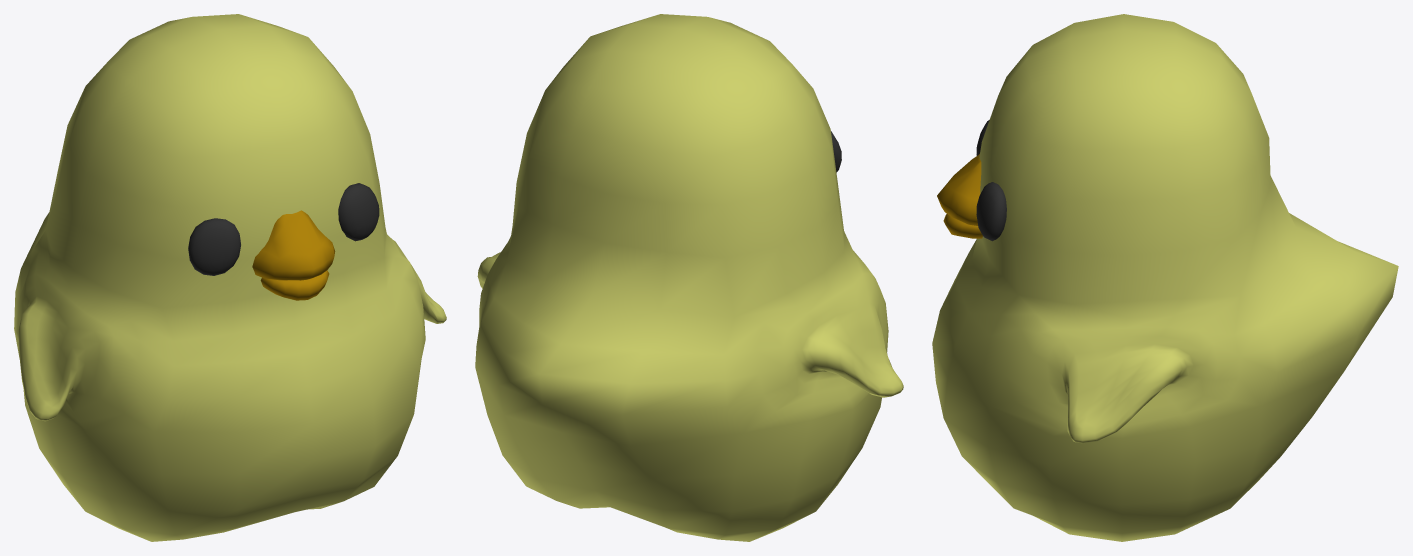
Rendered from duck (rubber duck) hat tester.fbx.
3 renders of one model, left to right at view 1: azimuth 30°, elevation 25°; view 2: azimuth 150°, elevation 25°; view 3: azimuth 270°, elevation 25°, orthographic. The views are drawn at different scales.
Parts seen in each view (by area): view 1: polySurface214; view 2: polySurface214; view 3: polySurface214.
Part boxes in pixels (<box>): polySurface214: <box>14,14,446,541</box>; polySurface214: <box>475,14,903,541</box>; polySurface214: <box>932,14,1398,541</box>.
Bounding box in the file's own units: 1.3 × 1.44 × 1.32.
